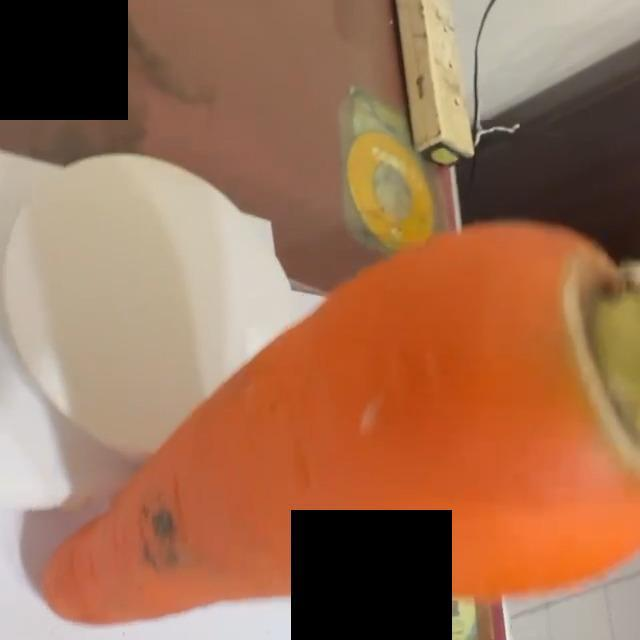carrot: (46, 225, 640, 628)
